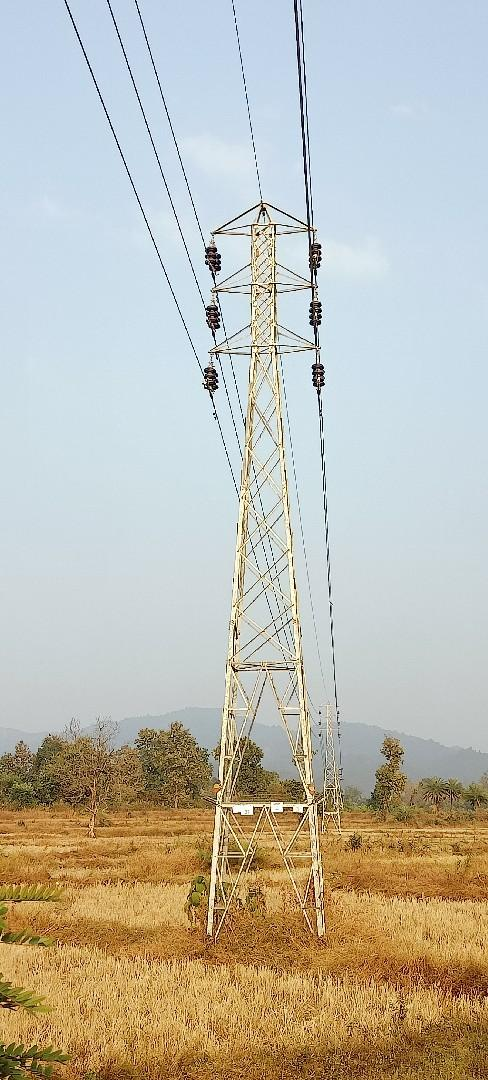GSM Antenna: (197, 197, 329, 876)
